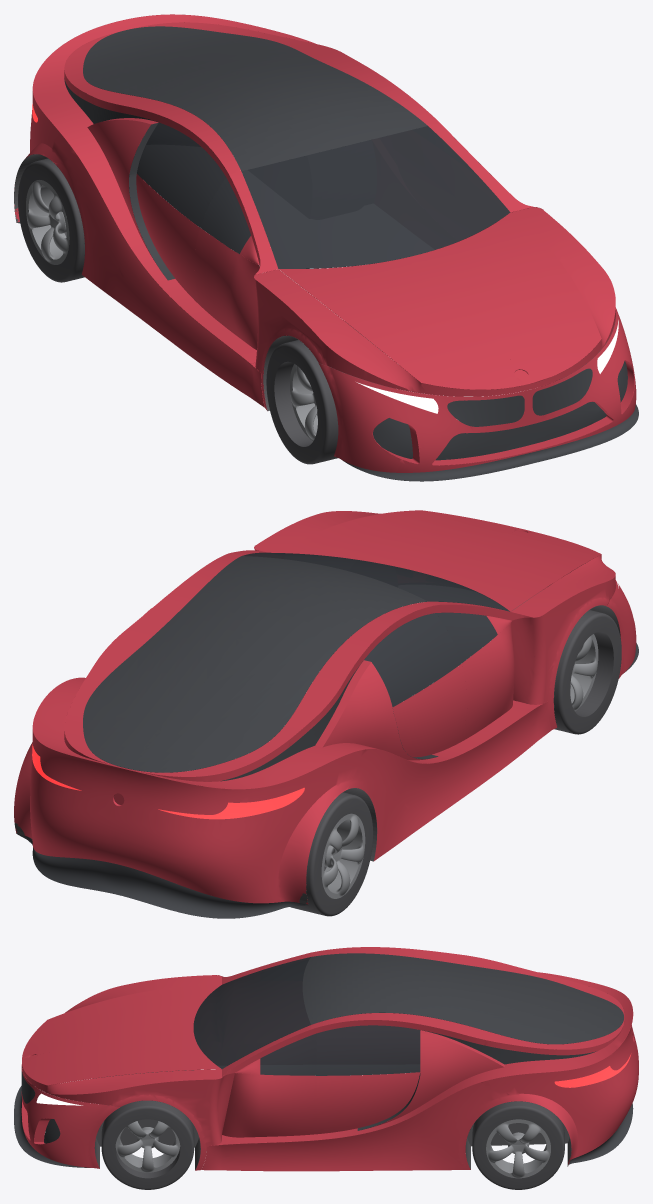
The model's file is bmw.glb.
3 renders of one model, top to bottom at view 1: azimuth 30°, elevation 25°; view 2: azimuth 150°, elevation 25°; view 3: azimuth 270°, elevation 25°, orthographic. The views are drawn at different scales.
Visible parts, largest first — view 1: BMW_M6_-_chasis_003, BMW_M6_-_glass_001, BMW_M6_-_roof_c_001, BMW_M6_-_carbonfiber_001, tyre_006, tyre_007, rim_007, rim_006m, BMW_M6_-_headlights_001, BMW_M6_-_wheelcover_001; view 2: BMW_M6_-_chasis_003, BMW_M6_-_roof_c_001, BMW_M6_-_glass_001, BMW_M6_-_carbonfiber_001, tyre_006, tyre_007, rim_007, BMW_M6_-_rearlights_003, rim_006m, BMW_M6_-_wheelcover_001; view 3: BMW_M6_-_chasis_003, BMW_M6_-_roof_c_001, BMW_M6_-_glass_001, tyre_005, tyre_004, rim_004, BMW_M6_-_carbonfiber_001, rim_005m, BMW_M6_-_wheelcover_001, BMW_M6_-_rearlights_003.
Boxes of the visible parts, <box> form: BMW_M6_-_chasis_003: <box>14,14,636,472</box>; BMW_M6_-_glass_001: <box>137,122,510,268</box>; BMW_M6_-_roof_c_001: <box>64,26,427,171</box>; BMW_M6_-_carbonfiber_001: <box>17,122,638,481</box>; tyre_006: <box>266,340,338,464</box>; tyre_007: <box>18,158,84,282</box>; rim_007: <box>26,180,69,264</box>; rim_006m: <box>290,364,317,440</box>; BMW_M6_-_headlights_001: <box>356,320,618,413</box>; BMW_M6_-_wheelcover_001: <box>14,154,615,410</box>; BMW_M6_-_chasis_003: <box>14,510,636,904</box>; BMW_M6_-_roof_c_001: <box>64,556,427,781</box>; BMW_M6_-_glass_001: <box>242,552,509,706</box>; BMW_M6_-_carbonfiber_001: <box>17,563,638,918</box>; tyre_006: <box>554,610,621,734</box>; tyre_007: <box>290,792,373,916</box>; rim_007: <box>321,813,365,898</box>; BMW_M6_-_rearlights_003: <box>32,744,304,819</box>; rim_006m: <box>570,634,598,710</box>; BMW_M6_-_wheelcover_001: <box>14,599,620,904</box>; BMW_M6_-_chasis_003: <box>21,947,638,1171</box>; BMW_M6_-_roof_c_001: <box>302,953,623,1064</box>; BMW_M6_-_glass_001: <box>193,957,420,1075</box>; tyre_005: <box>101,1100,194,1189</box>; tyre_004: <box>472,1101,564,1189</box>; rim_004: <box>486,1119,550,1178</box>; BMW_M6_-_carbonfiber_001: <box>14,1067,633,1167</box>; rim_005m: <box>115,1121,180,1172</box>; BMW_M6_-_wheelcover_001: <box>94,1069,571,1169</box>; BMW_M6_-_rearlights_003: <box>554,1053,631,1087</box>.
Size of the model in its own units: 2.15 by 1.43 by 5.1.
